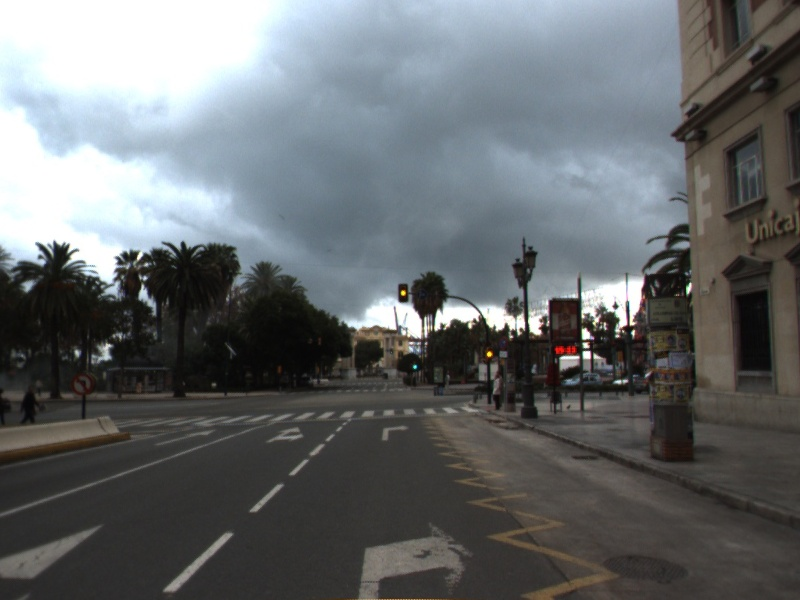RIGHT: (352, 513, 479, 600), (378, 422, 413, 443)
STRAIGHT: (150, 426, 220, 448)
STRAIGHT_RIGHT: (261, 424, 307, 445)
